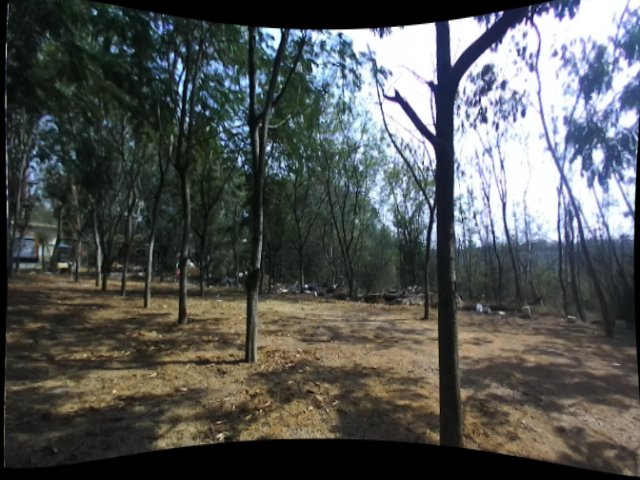tree: (370, 73, 493, 444), (207, 93, 305, 389), (159, 136, 209, 329)
